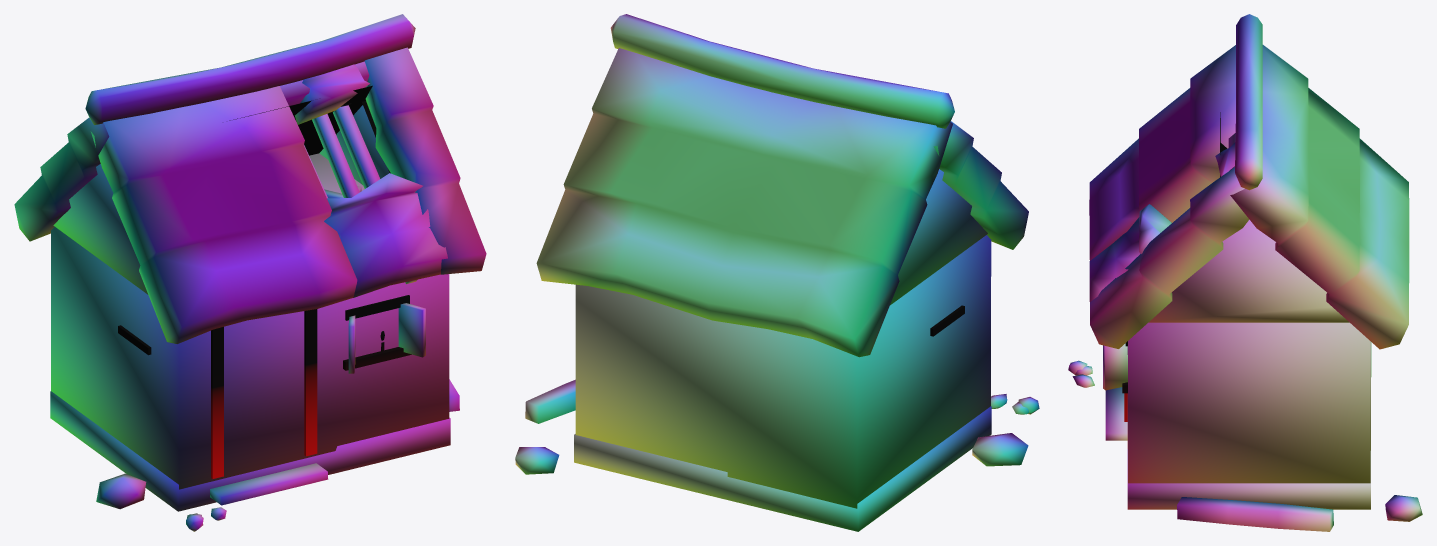
Rendered from SM_Prop_March_AshwheatCottage_A_LOD1.fbx.
3 renders of one model, left to right at view 1: azimuth 30°, elevation 25°; view 2: azimuth 150°, elevation 25°; view 3: azimuth 270°, elevation 25°, orthographic. The views are drawn at different scales.
Parts seen in each view (by area): view 1: SM_Prop_March_AshwheatCottage_A_LOD1; view 2: SM_Prop_March_AshwheatCottage_A_LOD1; view 3: SM_Prop_March_AshwheatCottage_A_LOD1.
Part boxes in pixels (<box>): SM_Prop_March_AshwheatCottage_A_LOD1: <box>14,14,486,531</box>; SM_Prop_March_AshwheatCottage_A_LOD1: <box>515,14,1039,531</box>; SM_Prop_March_AshwheatCottage_A_LOD1: <box>1068,14,1422,531</box>.
Bounding box in the file's own units: 3.48 × 3.18 × 2.84.
